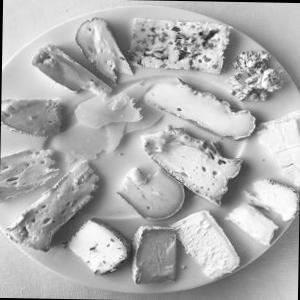cheese: (5, 9, 282, 296)
